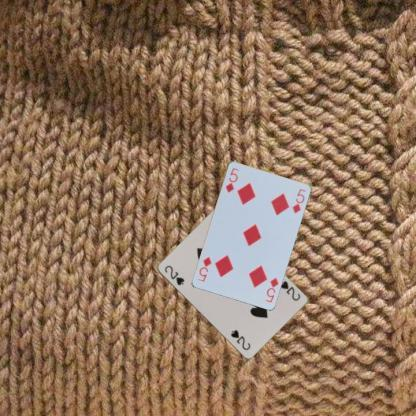2s: (162, 262, 186, 286), (277, 278, 301, 301)
5d: (263, 274, 280, 304), (223, 165, 240, 194)
